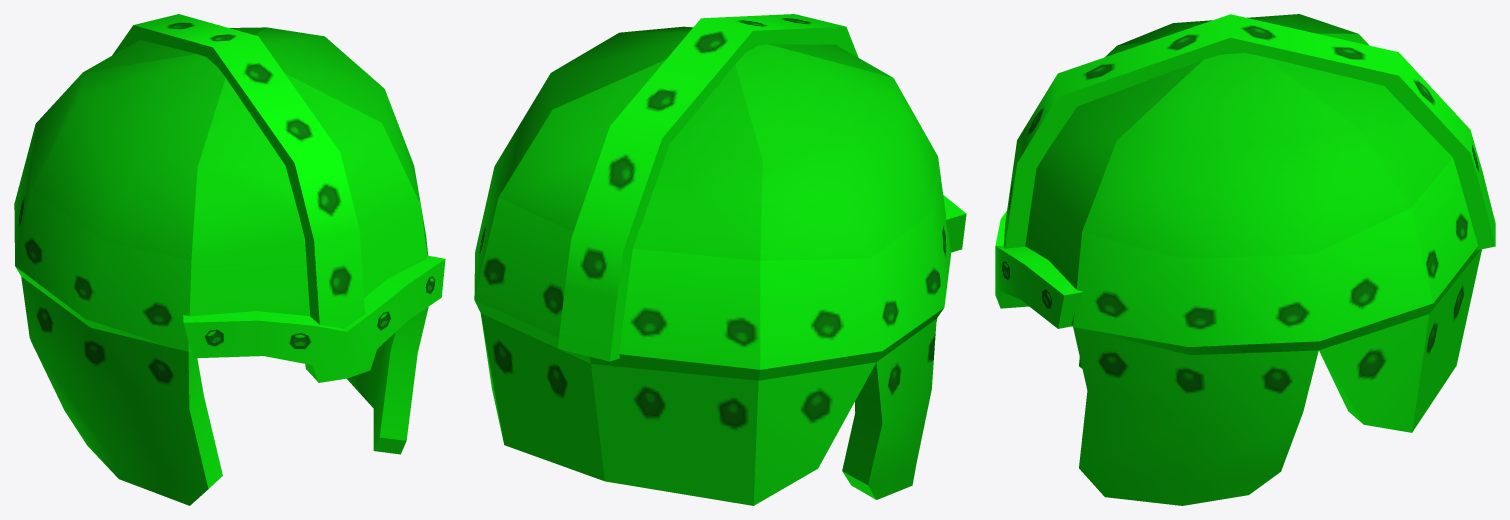
The model's file is LeatherHelm.fbx.
3 renders of one model, left to right at view 1: azimuth 30°, elevation 25°; view 2: azimuth 150°, elevation 25°; view 3: azimuth 270°, elevation 25°, orthographic. The views are drawn at different scales.
Visible parts, largest first — view 1: LeatherHelm; view 2: LeatherHelm; view 3: LeatherHelm.
Boxes of the visible parts, x1=… form: LeatherHelm: x1=14, y1=14, x2=445, y2=505; LeatherHelm: x1=474, y1=14, x2=966, y2=505; LeatherHelm: x1=995, y1=14, x2=1495, y2=505.
Bounding box in the file's own units: 28.63 × 30.26 × 32.91.
